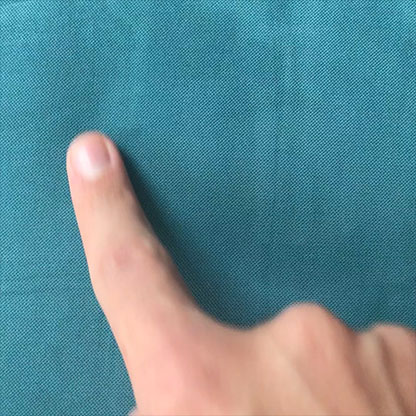fingertip: (53, 122, 130, 196)
